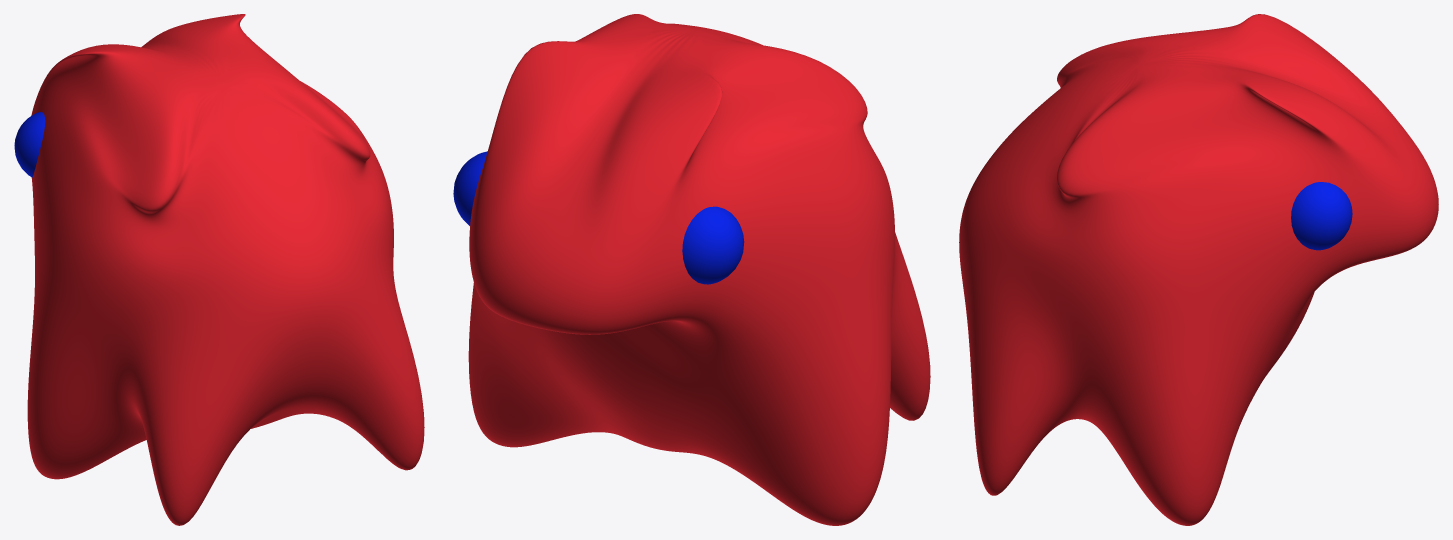
The model's file is perro.fbx.
3 views of the same model, side by side, from view 1: azimuth 30°, elevation 25°; view 2: azimuth 150°, elevation 25°; view 3: azimuth 270°, elevation 25° (orthographic). The views are drawn at different scales.
Parts seen in each view (by area): view 1: Sphere.001; view 2: Sphere.001; view 3: Sphere.001.
Part boxes in pixels (left/top/right/bottom): Sphere.001: left=14, top=14, right=424, bottom=525; Sphere.001: left=453, top=14, right=930, bottom=525; Sphere.001: left=959, top=14, right=1438, bottom=525.
Bounding box in the file's own units: 8.14 × 7.1 × 7.48.
